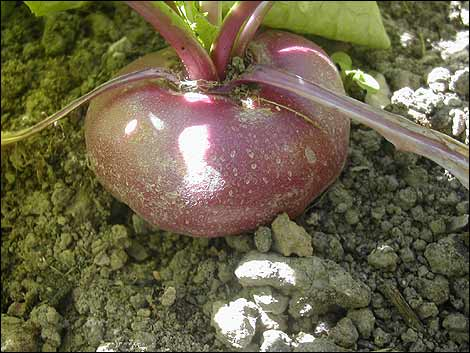turnip: (82, 26, 354, 239)
